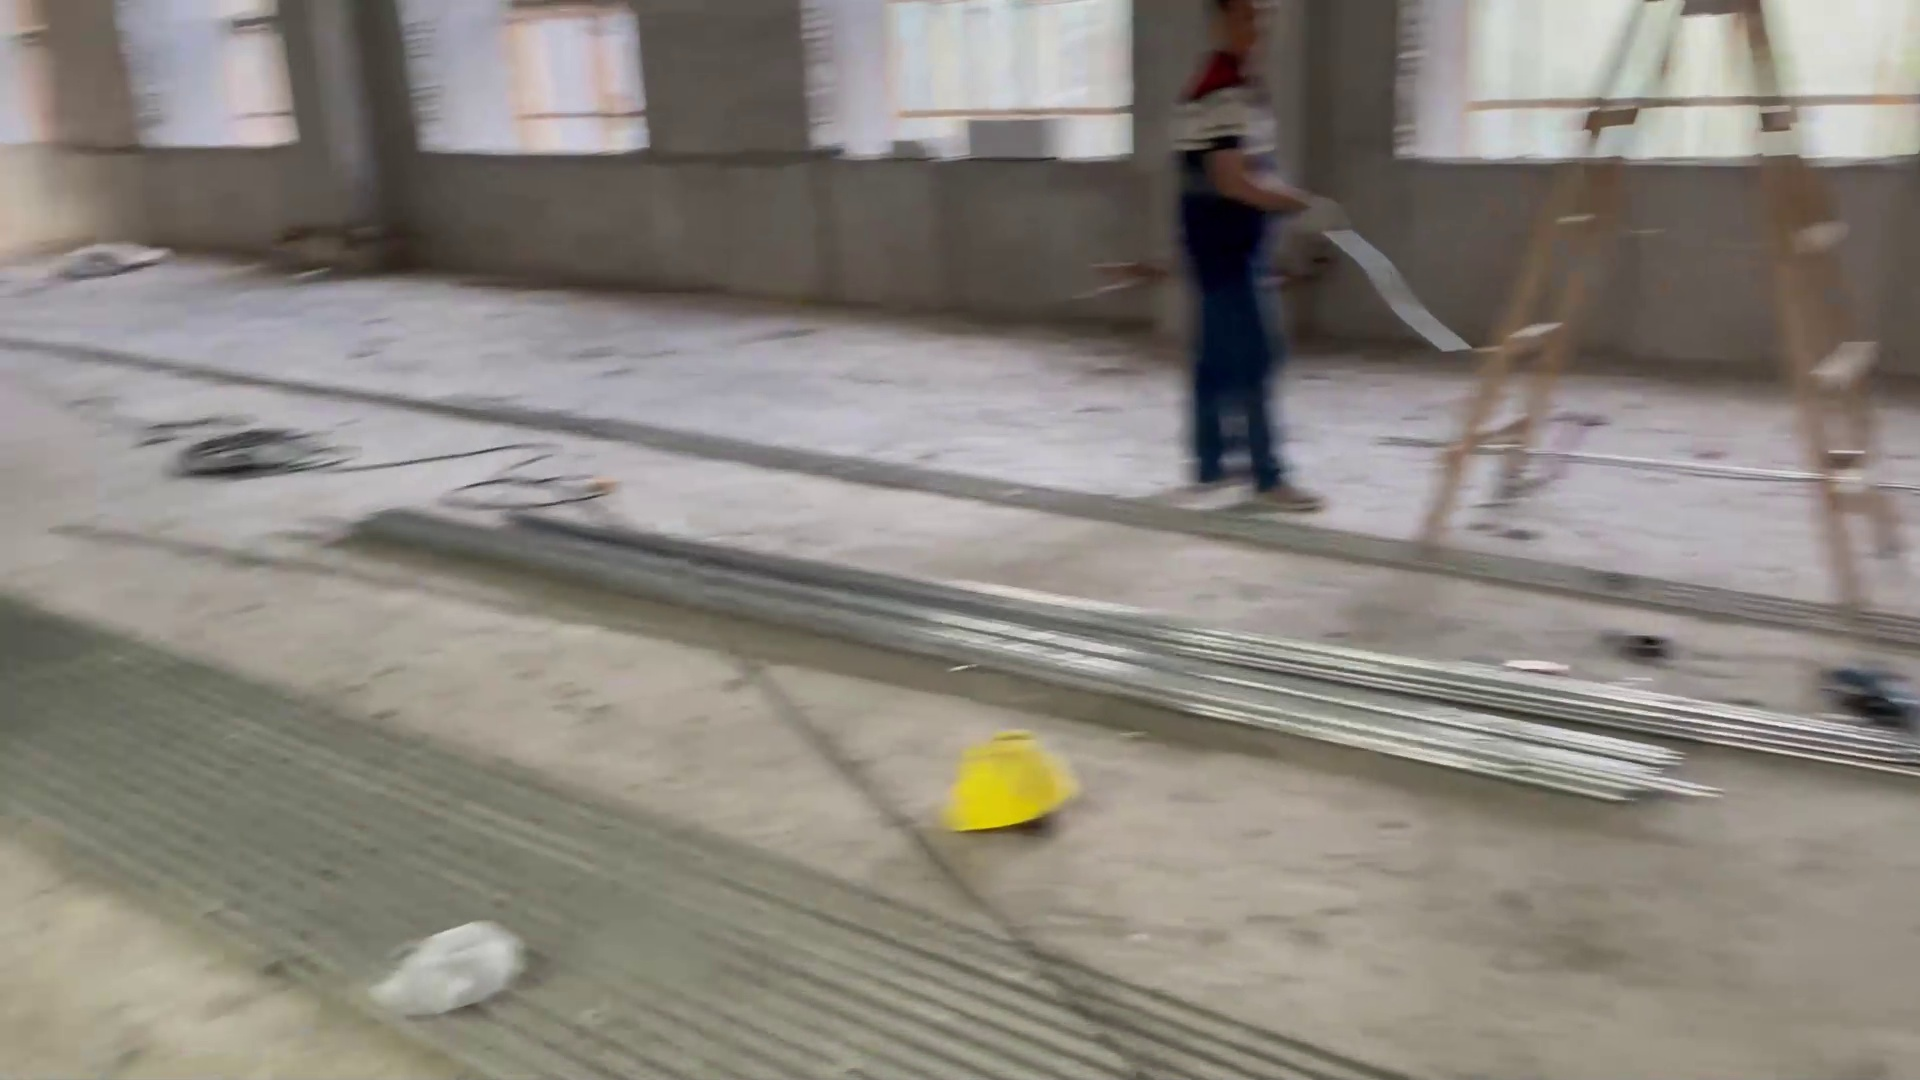helmet: (943, 714, 1077, 844)
person: (1164, 6, 1322, 534)
